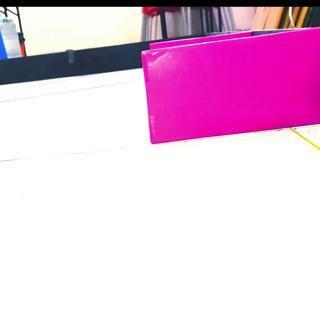xparking: (144, 50, 320, 138)
